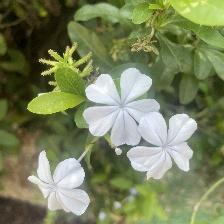chitrak: (82, 67, 162, 147), (132, 112, 196, 181), (31, 149, 90, 215)
